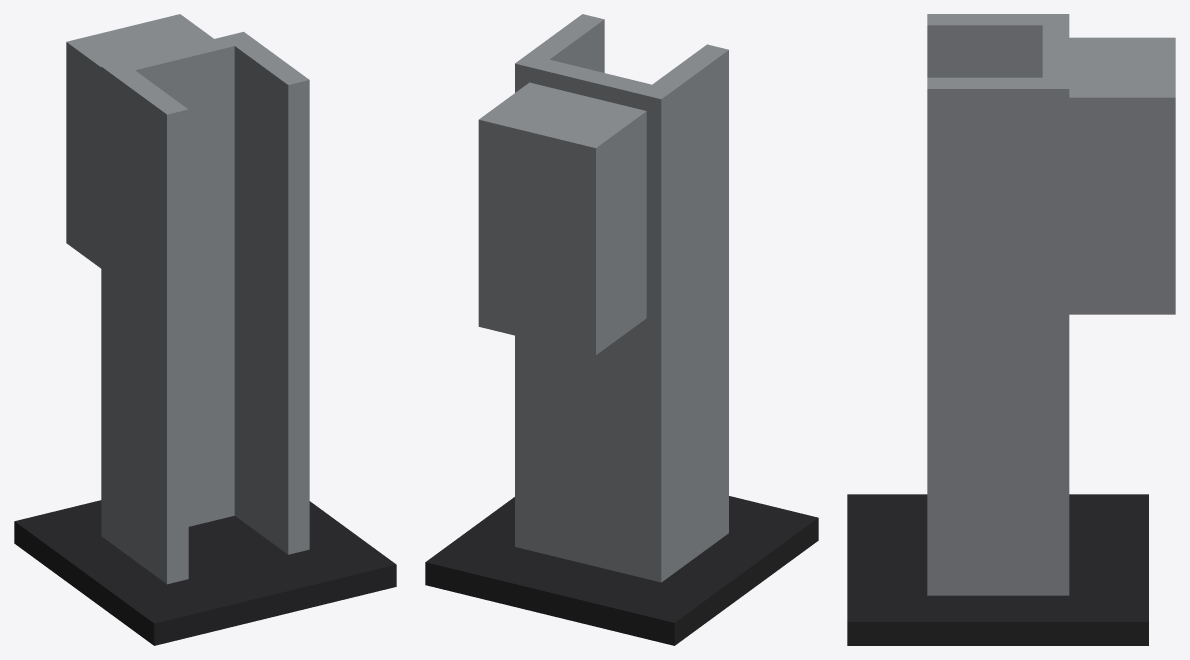
The model's file is guardrail_box_beam_post_down.obj.
3 views of the same model, side by side, from view 1: azimuth 30°, elevation 25°; view 2: azimuth 150°, elevation 25°; view 3: azimuth 270°, elevation 25° (orthographic). The views are drawn at different scales.
Visible parts, largest first — view 1: guardrail_box_beam_post_down; view 2: guardrail_box_beam_post_down; view 3: guardrail_box_beam_post_down.
Boxes of the visible parts, x1=… form: guardrail_box_beam_post_down: x1=14, y1=14, x2=396, y2=645; guardrail_box_beam_post_down: x1=425, y1=14, x2=818, y2=645; guardrail_box_beam_post_down: x1=847, y1=14, x2=1175, y2=645.
Bounding box in the file's own units: 0.425 × 0.825 × 0.4625.
